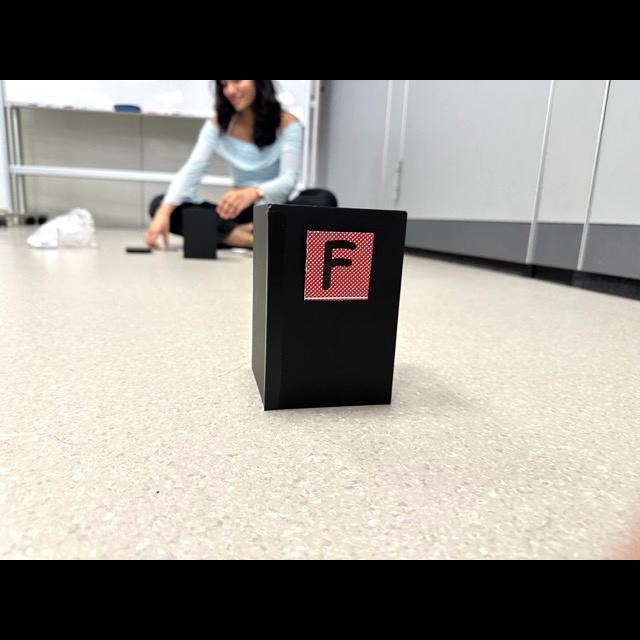F: (324, 240, 356, 289)
